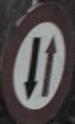Two way: (11, 6, 67, 114)
